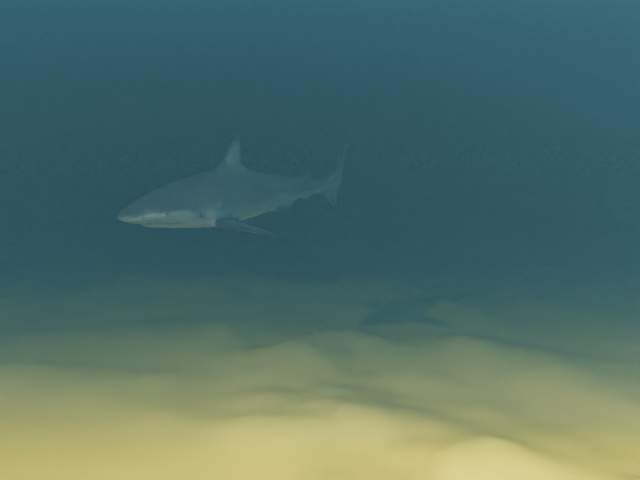Carribean Shark.001: (117, 134, 352, 237)
